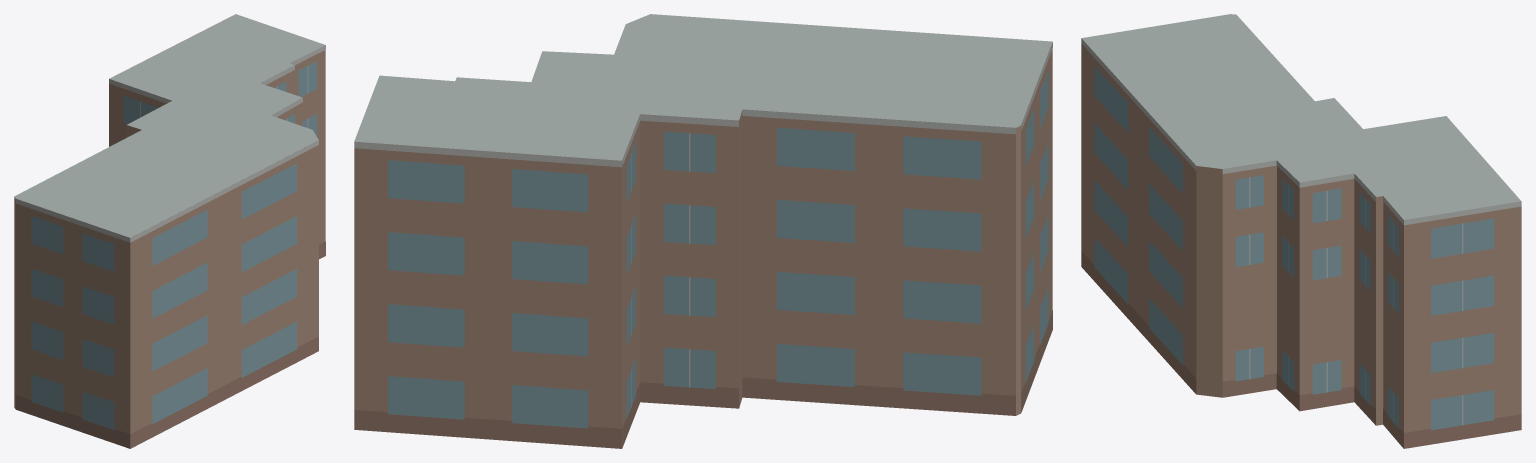
File: survey-upis-32963412.glb
The picture shows the model from 3 angles, left to right: view 1: azimuth 30°, elevation 25°; view 2: azimuth 150°, elevation 25°; view 3: azimuth 270°, elevation 25°; orthographic projection. The views are drawn at different scales.
Parts seen in each view (by area): view 1: survey-upis-32963412.tmp; view 2: survey-upis-32963412.tmp; view 3: survey-upis-32963412.tmp.
Boxes of the visible parts, x1,y1,x2,y2 form: survey-upis-32963412.tmp: (14,14,325,448); survey-upis-32963412.tmp: (354,14,1052,448); survey-upis-32963412.tmp: (1081,14,1521,448).
Size of the model in its own units: 20.9 by 10.8 by 18.85.
